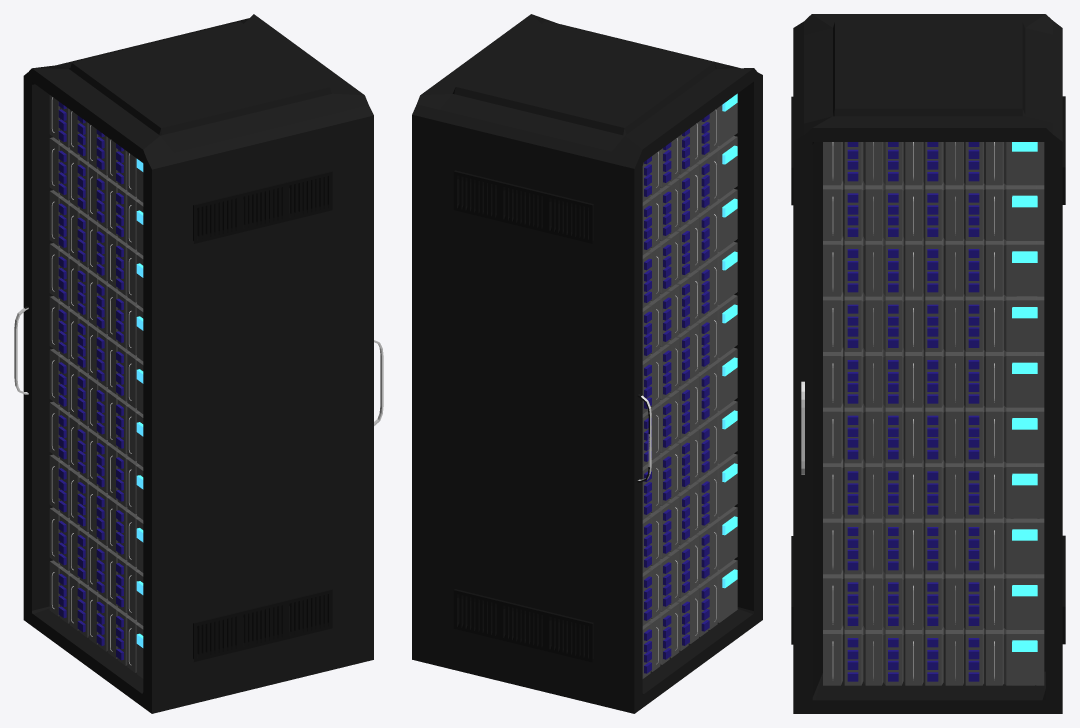
The model's file is rack4.glb.
The picture shows the model from 3 angles, left to right: view 1: azimuth 30°, elevation 25°; view 2: azimuth 150°, elevation 25°; view 3: azimuth 270°, elevation 25°; orthographic projection. The views are drawn at different scales.
Visible parts, largest first — view 1: rack; view 2: rack; view 3: rack.
Boxes of the visible parts, x1,y1,x2,y2 form: rack: (14,14,383,713); rack: (412,14,762,713); rack: (791,14,1065,713).
Size of the model in its own units: 11.16 by 24.27 by 10.18.
